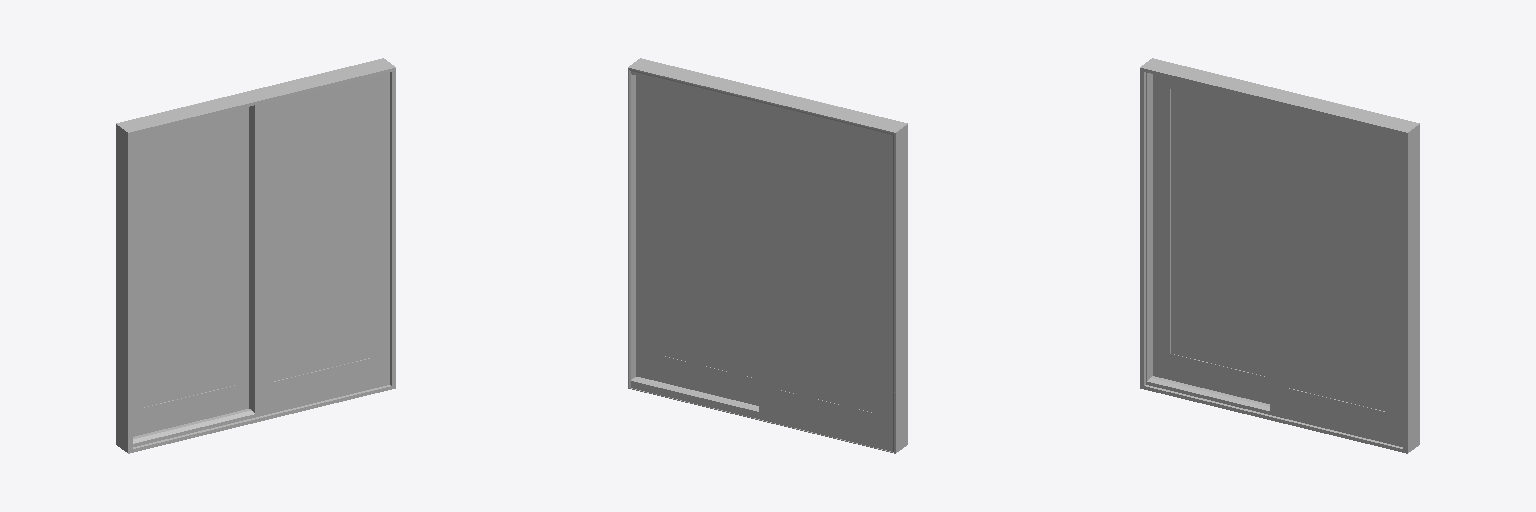
Rendered from janela3.obj.
3 views of the same model, side by side, from view 1: azimuth 30°, elevation 25°; view 2: azimuth 150°, elevation 25°; view 3: azimuth 330°, elevation 25° (orthographic).
Visible parts, largest first — view 1: 3d-model.007_3d-model.004; view 2: 3d-model.007_3d-model.004; view 3: 3d-model.007_3d-model.004.
Part boxes in pixels (x1,y1,x2,y2): 3d-model.007_3d-model.004: (116,58,395,453); 3d-model.007_3d-model.004: (628,58,907,453); 3d-model.007_3d-model.004: (1140,58,1419,453).
Bounding box in the file's own units: 10.21 × 11.68 × 0.8402.